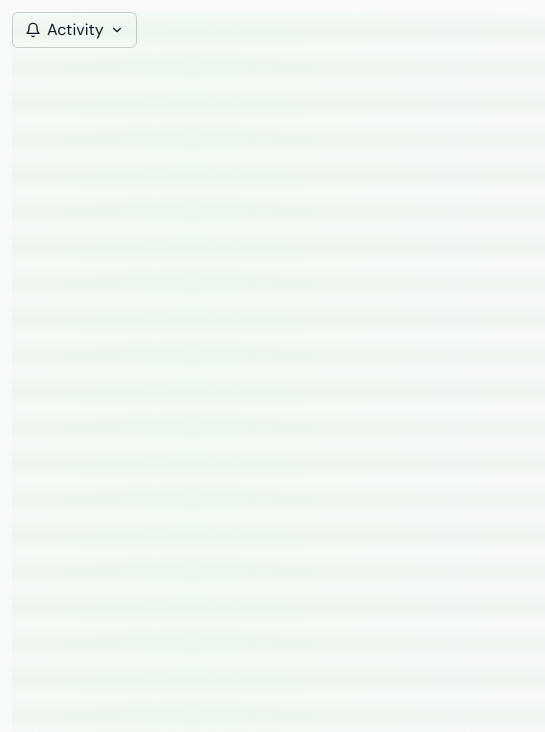
Test case: ActivityNotificationButton candidate journey › keeps the control quiet when activity has already been seen
The image size is (545, 732).
Press the mouse on the button with aria-label "View recent activity" at (74, 30), box [12, 12, 137, 48]
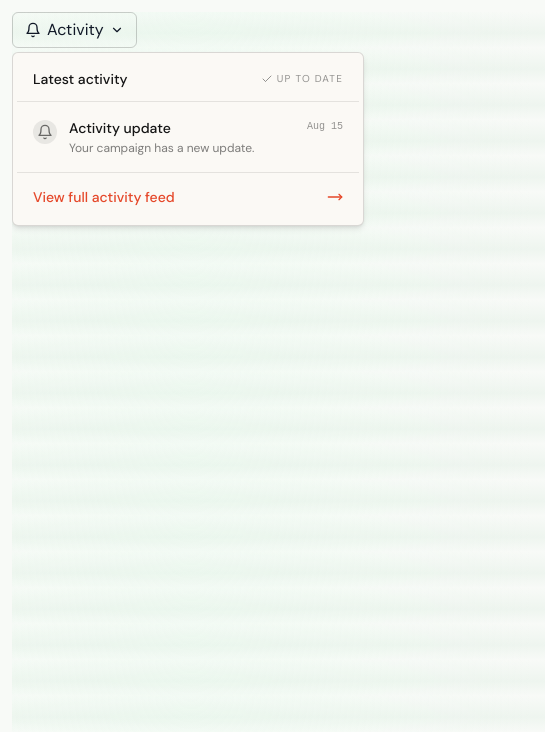
Now the text "Up to date" is shown, box [261, 72, 343, 86]
